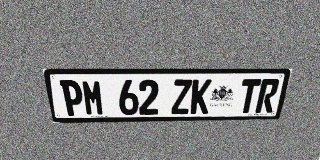2: (139, 79, 158, 115)
6: (118, 80, 139, 115)
K: (190, 79, 212, 114)
M: (81, 80, 105, 116)
P: (59, 80, 85, 116)
R: (255, 79, 280, 113)
T: (237, 79, 261, 113)
Z: (171, 79, 192, 114)
